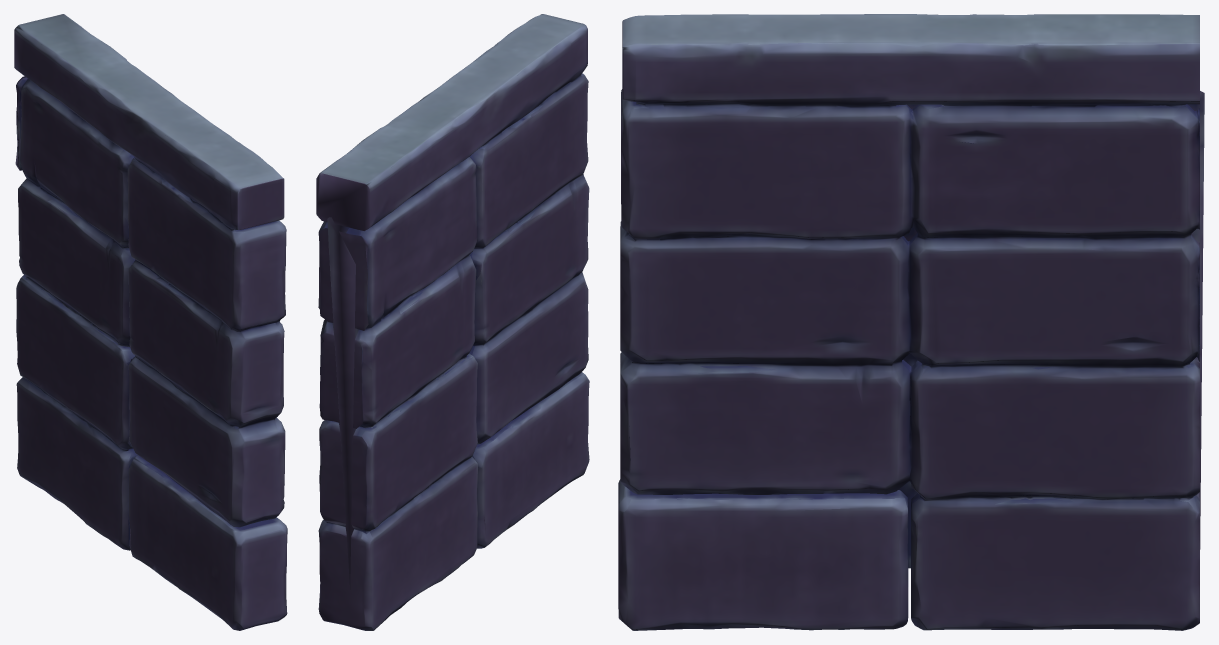
File: Wall1.FBX
3 renders of one model, left to right at view 1: azimuth 30°, elevation 25°; view 2: azimuth 150°, elevation 25°; view 3: azimuth 270°, elevation 25°, orthographic. The views are drawn at different scales.
Parts seen in each view (by area): view 1: Wall_01; view 2: Wall_01; view 3: Wall_01.
Part boxes in pixels (x1,y1,x2,y2): Wall_01: (14, 14, 287, 630); Wall_01: (316, 14, 589, 630); Wall_01: (618, 14, 1204, 630).
Bounding box in the file's own units: 0.5816 × 4.47 × 4.05.
Materials: 1 (1 with a texture image).
